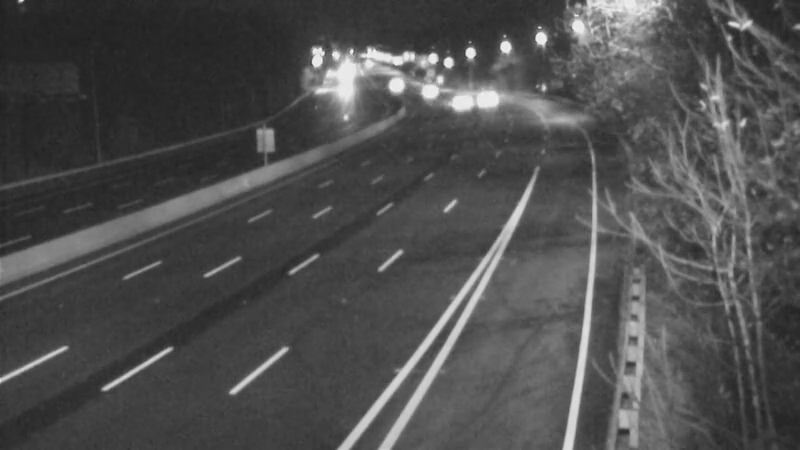vehicle: (373, 55, 423, 105), (402, 65, 452, 115), (432, 81, 482, 131), (458, 80, 508, 130)
